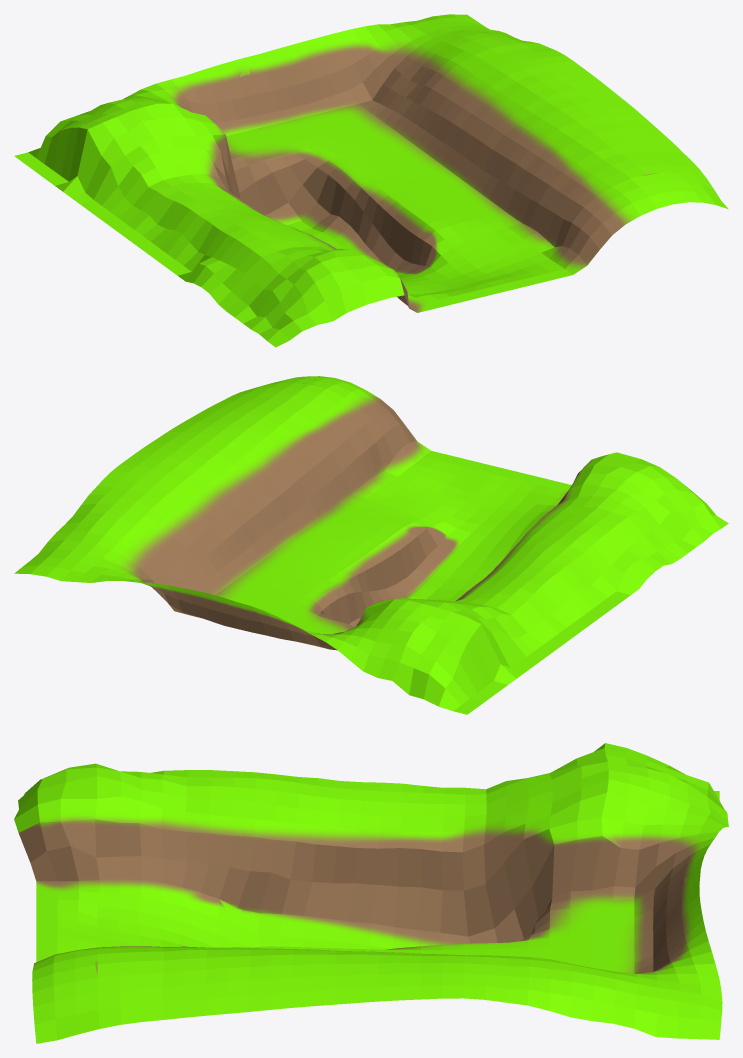
File: terrain2.glb
3 views of the same model, one above another, from view 1: azimuth 30°, elevation 25°; view 2: azimuth 150°, elevation 25°; view 3: azimuth 270°, elevation 25° (orthographic). The views are drawn at different scales.
Parts seen in each view (by area): view 1: Plane; view 2: Plane; view 3: Plane.
Part boxes in pixels (x1,y1,x2,y2): Plane: (14, 14, 728, 347); Plane: (14, 376, 728, 714); Plane: (14, 743, 728, 1043).
Size of the model in its own units: 8.26 by 2.07 by 8.56.
Materials: 1 (1 with a texture image).
